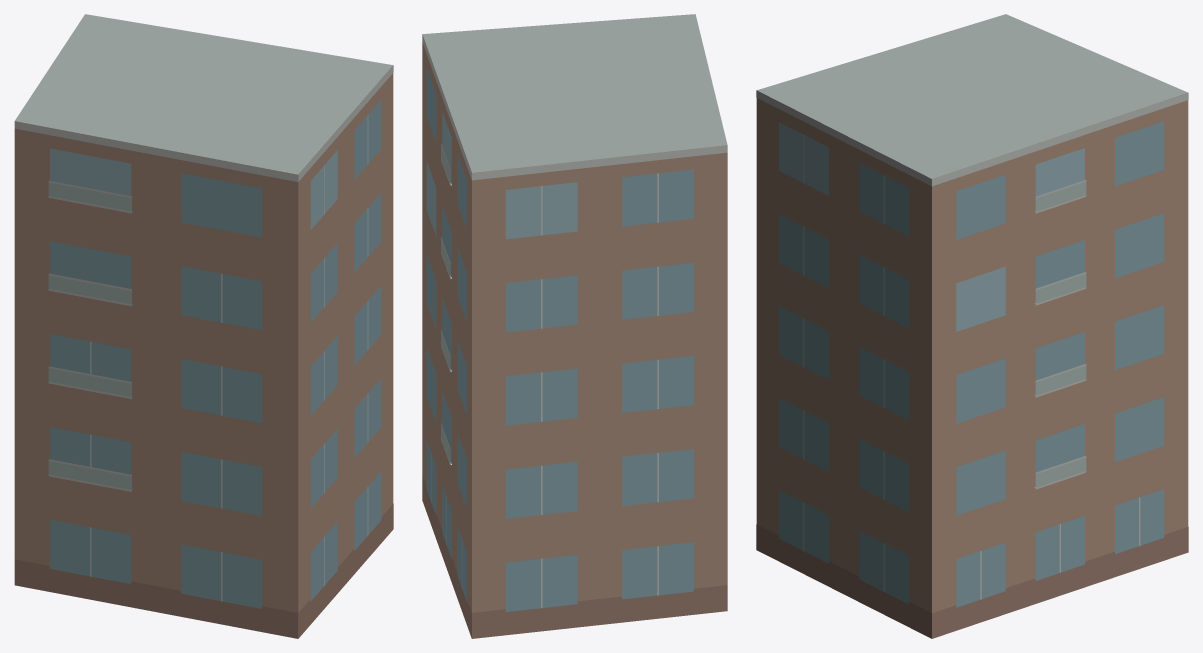
Rendered from survey-upis-32789162.glb.
The picture shows the model from 3 angles, left to right: view 1: azimuth 30°, elevation 25°; view 2: azimuth 150°, elevation 25°; view 3: azimuth 270°, elevation 25°; orthographic projection.
Visible parts, largest first — view 1: survey-upis-32789162.tmp; view 2: survey-upis-32789162.tmp; view 3: survey-upis-32789162.tmp.
Boxes of the visible parts, x1,y1,x2,y2 form: survey-upis-32789162.tmp: (14, 14, 393, 638); survey-upis-32789162.tmp: (422, 14, 727, 638); survey-upis-32789162.tmp: (756, 14, 1188, 638).
Size of the model in its own units: 11.75 by 15.25 by 12.99.
